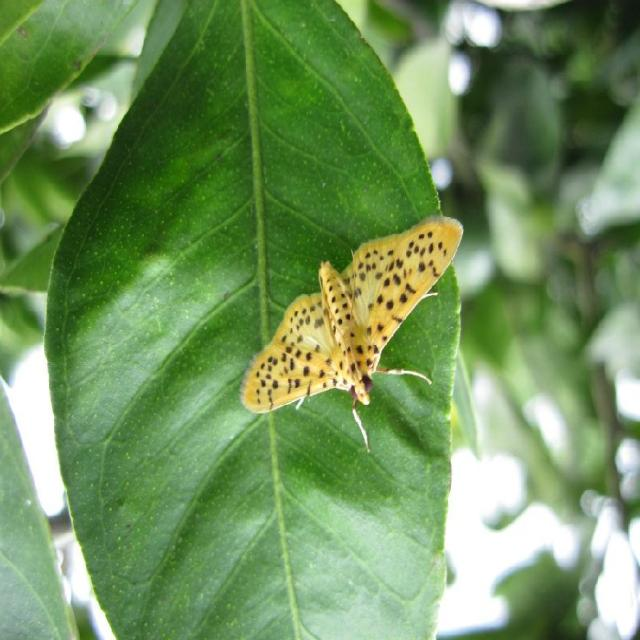peach borer: (247, 207, 468, 432)
